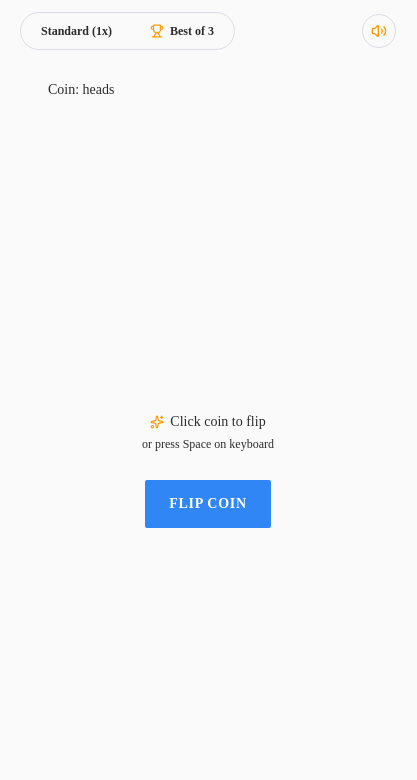
Scenario: CoinFlip — flip mechanics › the coin stub receives the correct side prop after a deterministic flip
Step 1. Click the button "Flip Coin" → (208, 504), box [145,480,271,528]
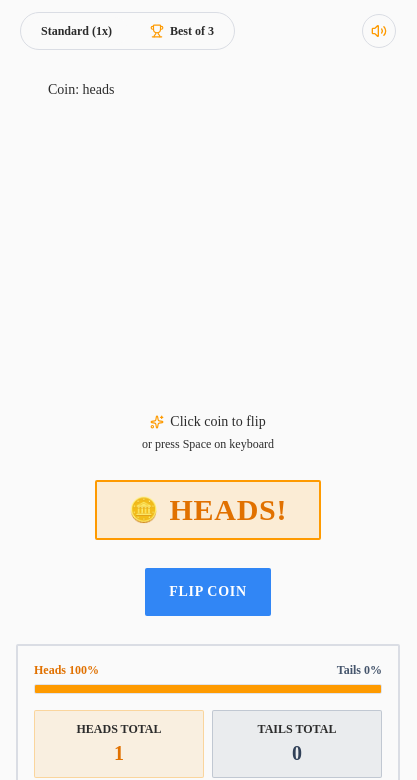
expect the text "Heads!" is shown: met, box [169,492,287,528]
